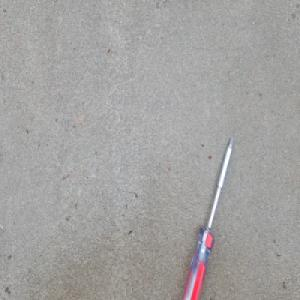Screwdriver: (179, 134, 235, 300)
